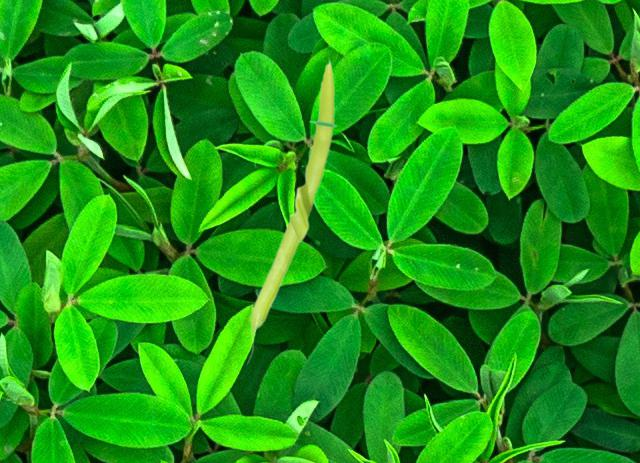french_bean: (246, 56, 337, 364)
